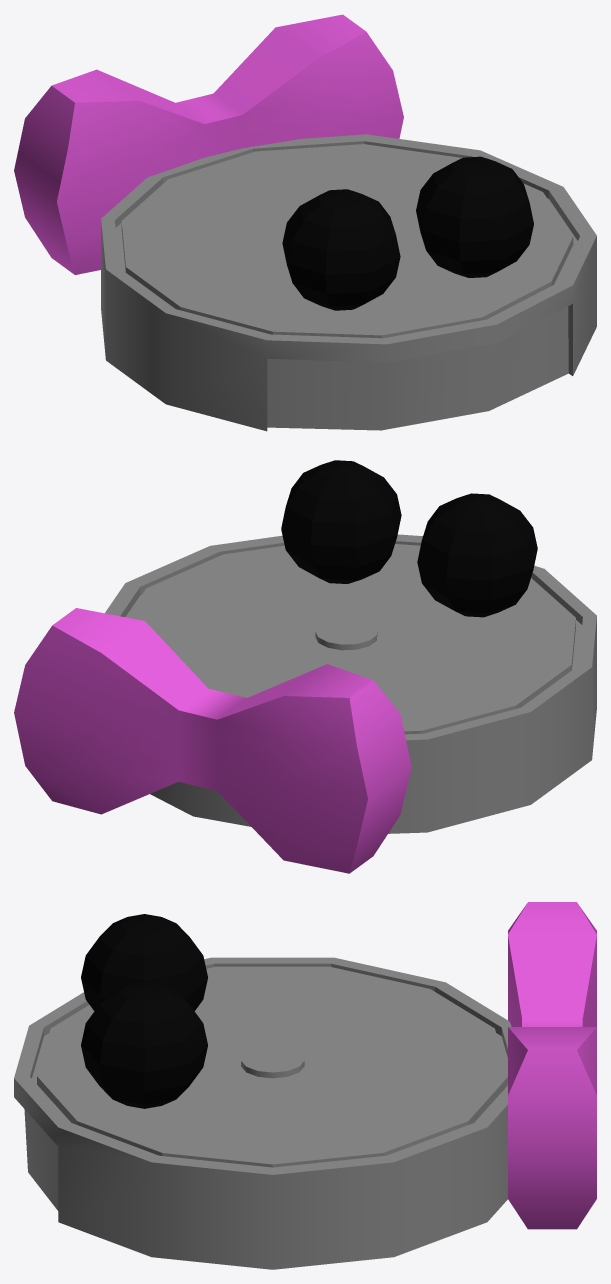
The model's file is roomba.fbx.
The picture shows the model from 3 angles, top to bottom: view 1: azimuth 30°, elevation 25°; view 2: azimuth 150°, elevation 25°; view 3: azimuth 270°, elevation 25°; orthographic projection. The views are drawn at different scales.
Visible parts, largest first — view 1: roomba_low, lazo_c_low, ojo_i_low, ojo_d_low; view 2: roomba_low, lazo_c_low, ojo_i_low, ojo_d_low, boton_c_low; view 3: roomba_low, lazo_c_low, ojo_d_low, ojo_i_low, boton_c_low.
Part boxes in pixels (bbox=[...]): roomba_low: bbox=[101, 134, 596, 431]; lazo_c_low: bbox=[14, 14, 403, 274]; ojo_i_low: bbox=[282, 189, 400, 310]; ojo_d_low: bbox=[416, 156, 533, 277]; roomba_low: bbox=[105, 534, 596, 833]; lazo_c_low: bbox=[14, 608, 411, 873]; ojo_i_low: bbox=[417, 493, 537, 617]; ojo_d_low: bbox=[281, 460, 401, 583]; boton_c_low: bbox=[315, 618, 377, 650]; roomba_low: bbox=[14, 957, 511, 1269]; lazo_c_low: bbox=[508, 902, 596, 1229]; ojo_d_low: bbox=[81, 981, 207, 1108]; ojo_i_low: bbox=[81, 914, 207, 1010]; boton_c_low: bbox=[241, 1046, 304, 1078].
Size of the model in its own units: 141 by 62.21 by 160.
